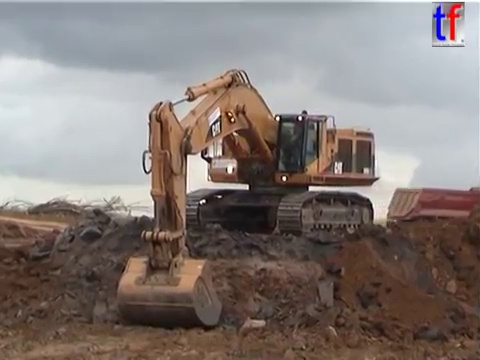excavator: (112, 66, 381, 332)
truck: (385, 184, 480, 241)
